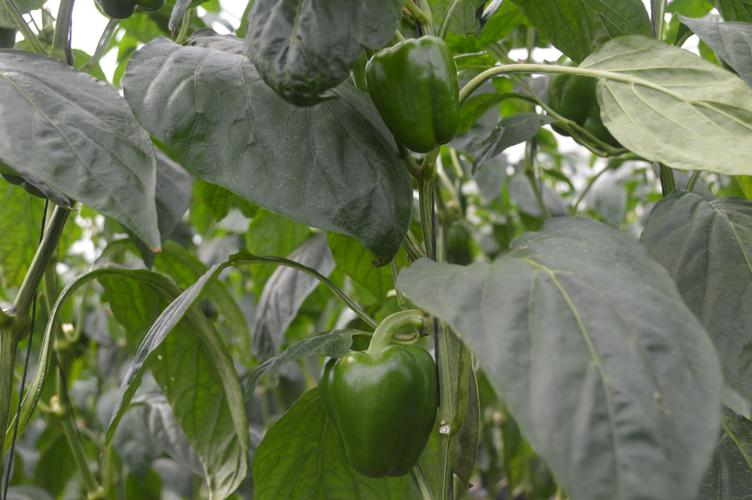BellPepper: (322, 344, 441, 477), (364, 37, 460, 144), (544, 71, 618, 152)
